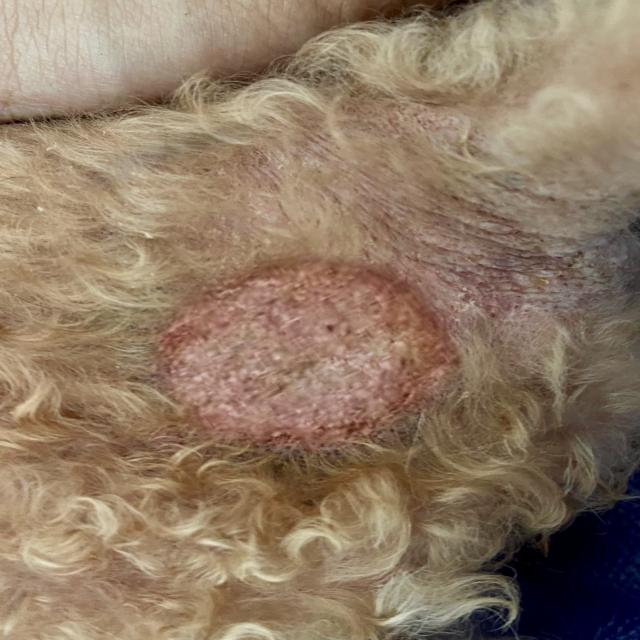ringworm: (151, 257, 446, 447)
